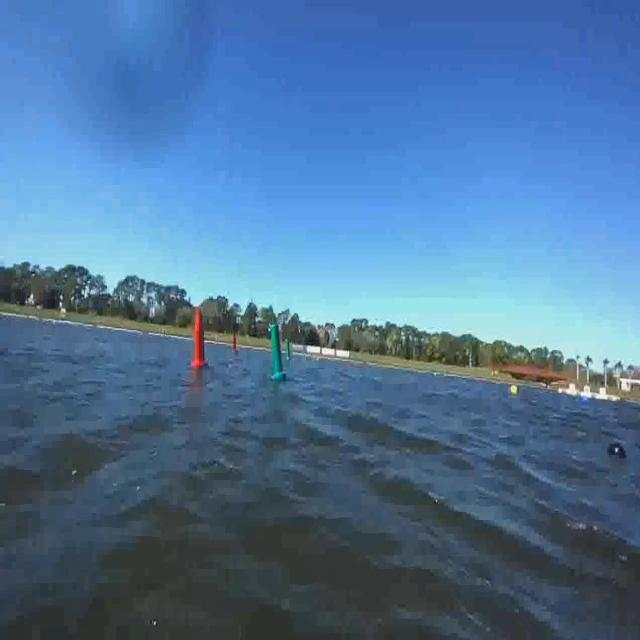black-buoy: (607, 442, 629, 460)
green-column-buoy: (270, 322, 286, 380)
red-column-buoy: (192, 308, 209, 368), (233, 336, 240, 354)
yellow-buoy: (511, 383, 520, 398)
